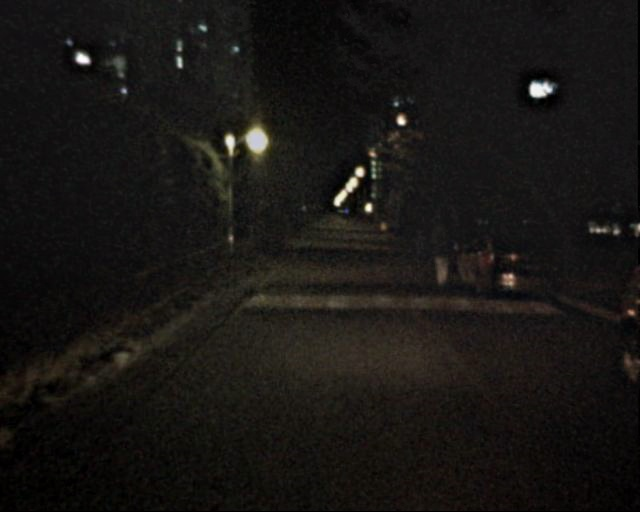person: (429, 225, 454, 285), (412, 225, 433, 276), (425, 220, 446, 271)
